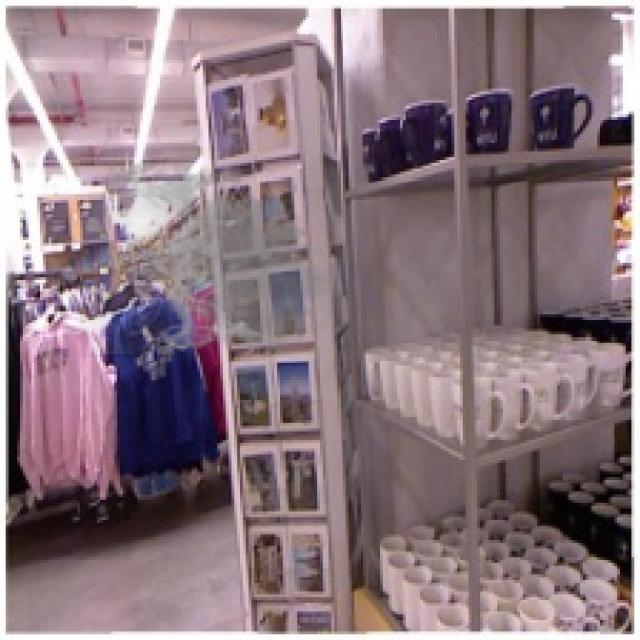smoke: (80, 157, 346, 357)
